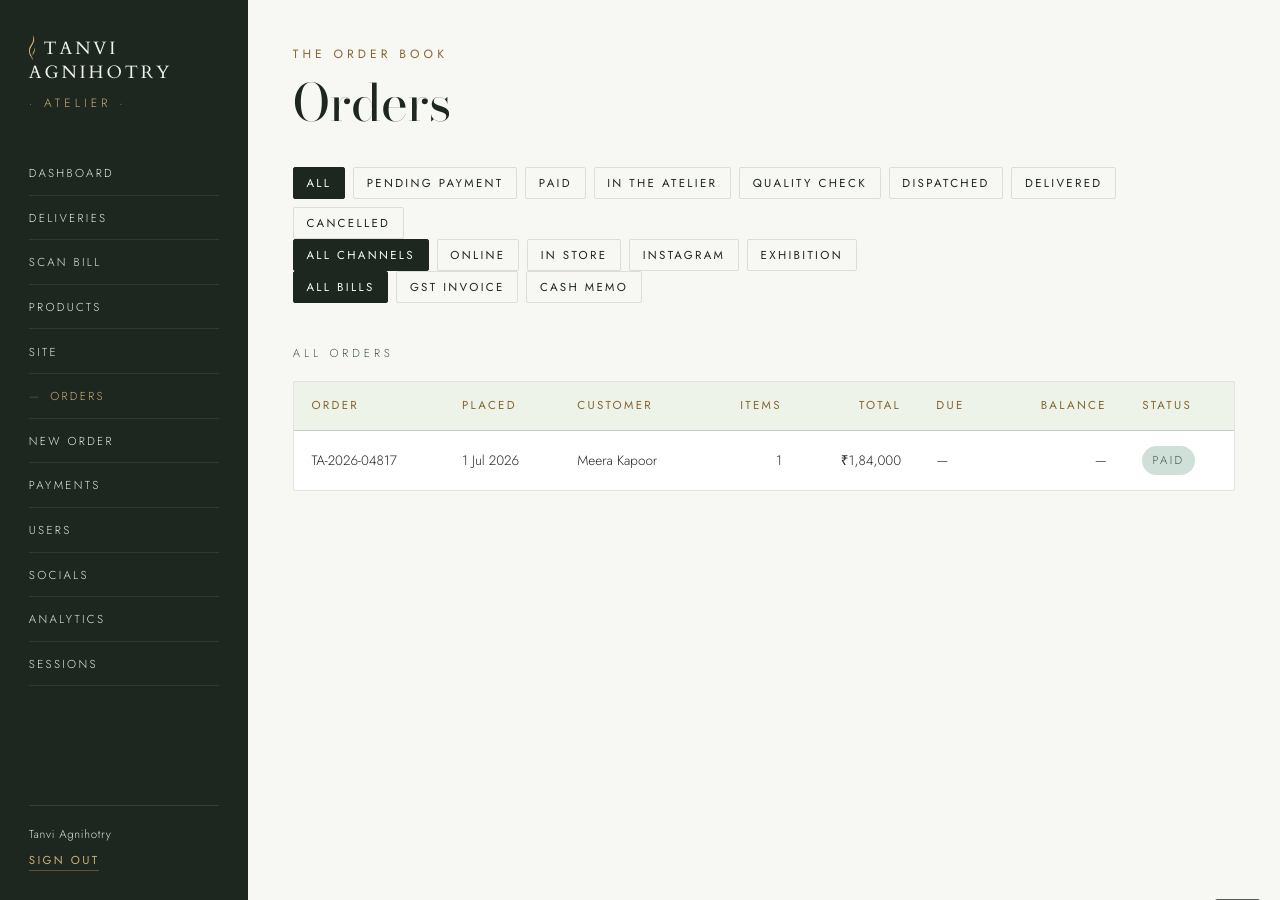
Orders › expands a row and PATCHes the selected valid transition
The width and height of the screenshot is (1280, 900).
Expected: the text "Meera Kapoor" is shown, [560,430,703,490]
Expected: the text "₹1,84,000" is shown, [799,430,919,490]
expand → detail pane with items (incl. the measurements note) + address + status select
Click the cell "TA-2026-04817" at (369, 460), box [294,430,444,490]
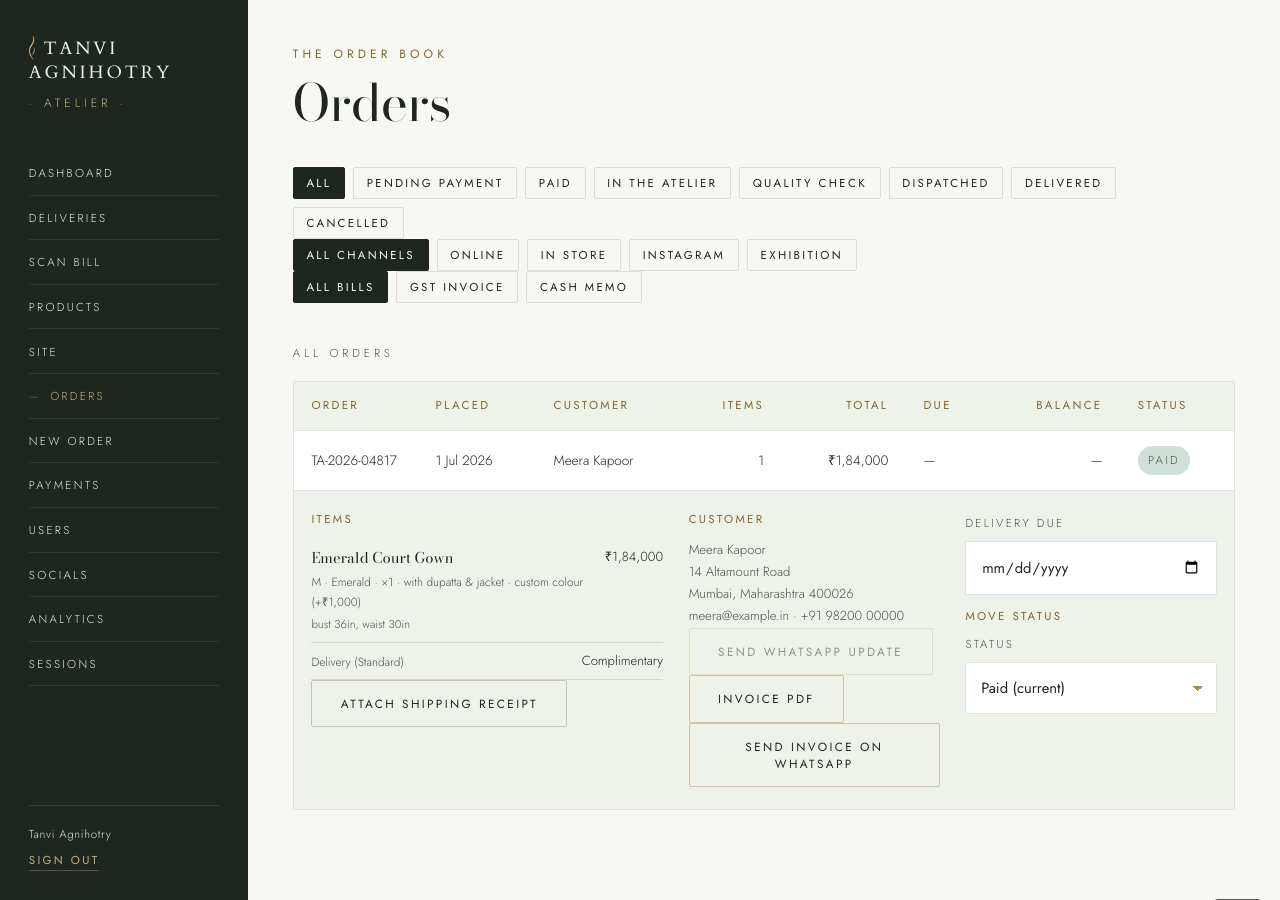
Expected: the text "Emerald Court Gown" is shown, [311,546,454,569]
Expected: the text "· with dupatta & jacket · custom colour (+₹1,000)" is shown, [311,572,589,612]
Expected: the text "bust 36in, waist 30in" is shown, [311,616,410,632]
Select "In the Atelier" in the dropdown labelled "Status" at (1091, 688), box [965,662,1217,714]
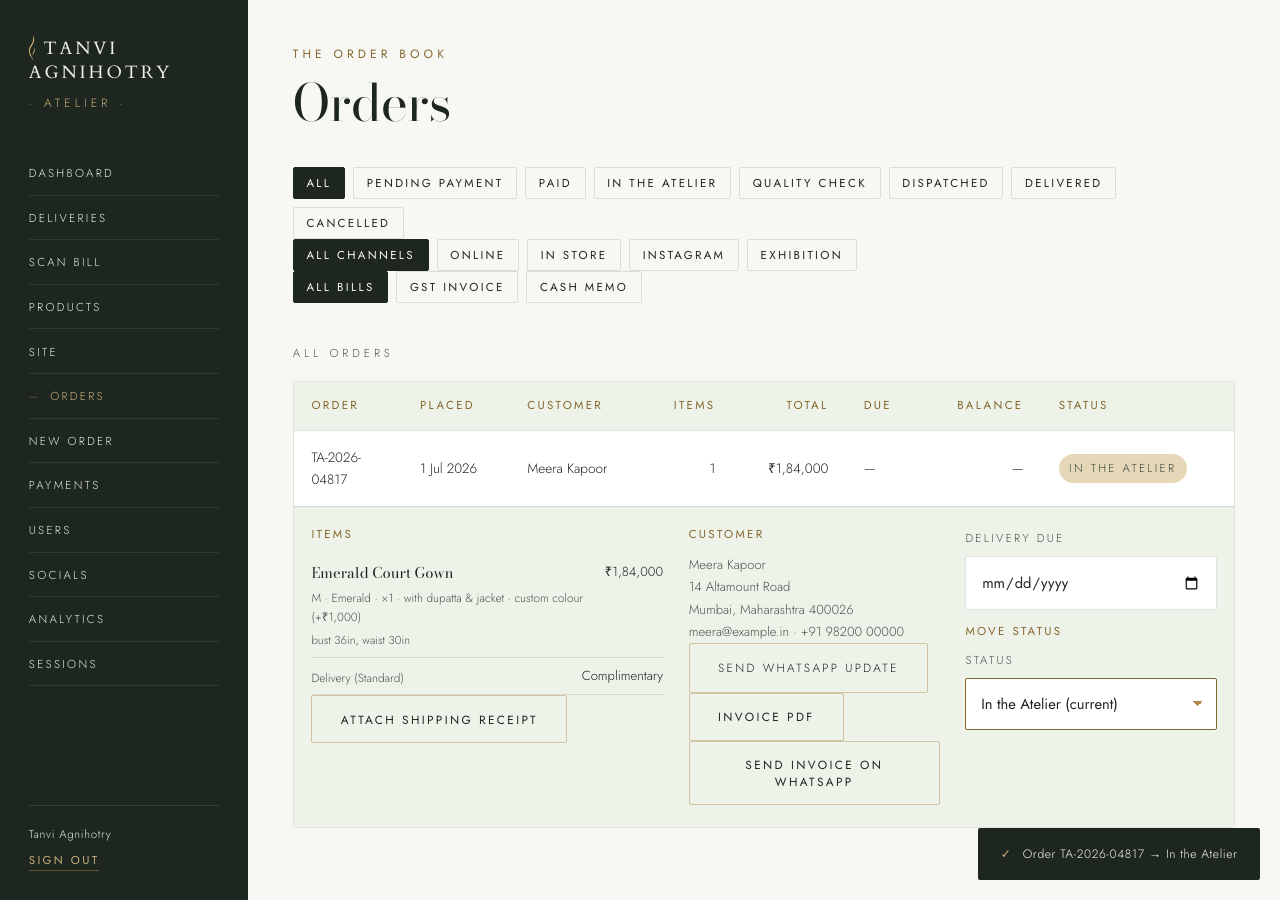
Expected: the text "In the Atelier" is shown, [1059,454,1187,483]
